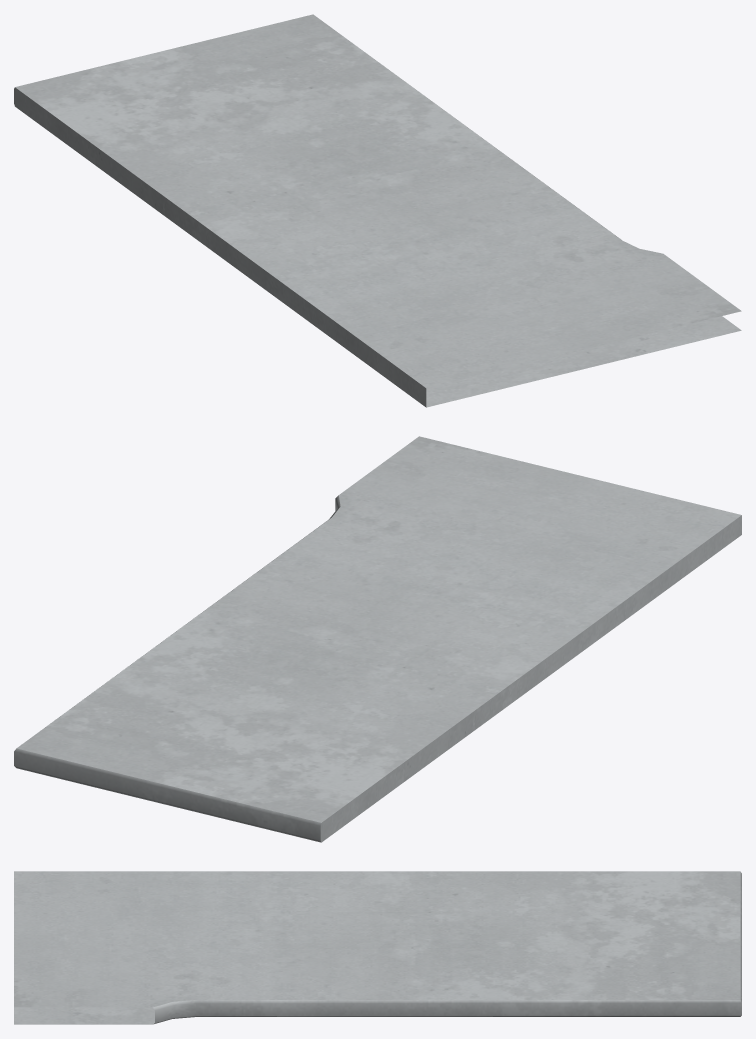
File: Bridge_RightStrip.fbx
The picture shows the model from 3 angles, top to bottom: view 1: azimuth 30°, elevation 25°; view 2: azimuth 150°, elevation 25°; view 3: azimuth 270°, elevation 25°; orthographic projection. The views are drawn at different scales.
Visible parts, largest first — view 1: Bridge_RightStrip; view 2: Bridge_RightStrip; view 3: Bridge_RightStrip.
Part boxes in pixels (<box>): Bridge_RightStrip: <box>14,14,741,407</box>; Bridge_RightStrip: <box>14,436,741,842</box>; Bridge_RightStrip: <box>14,871,741,1024</box>.
Bounding box in the file's own units: 10.71 × 0.6233 × 24.05.
Materials: 1 (1 with a texture image).
